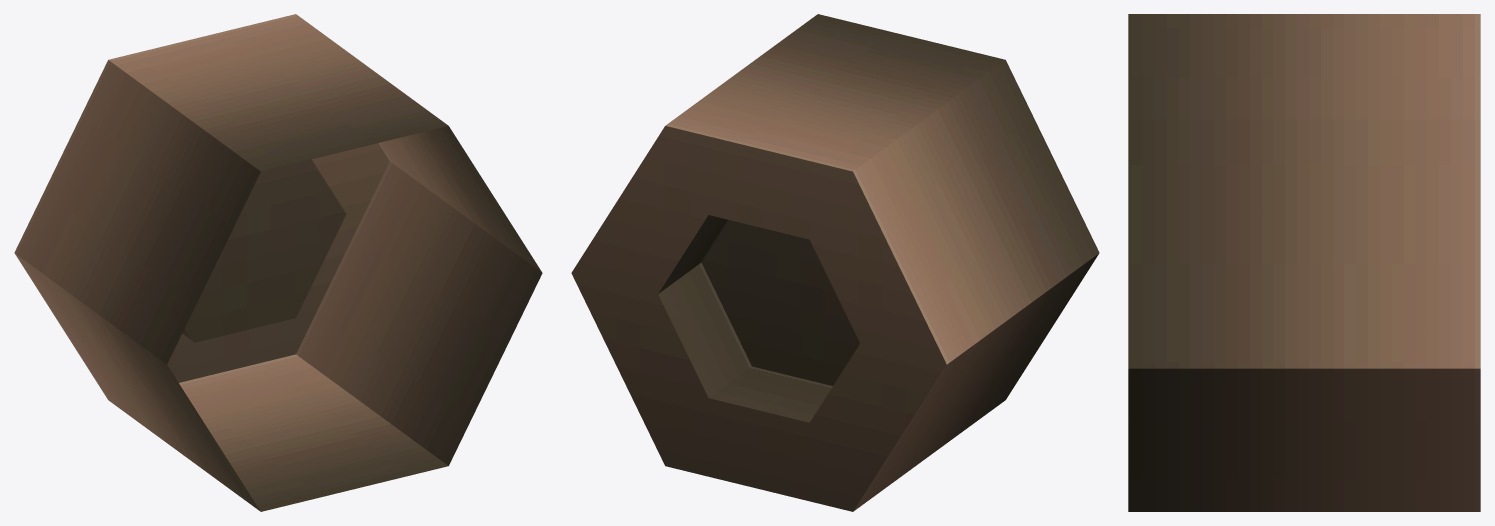
File: Cannon.FBX
3 views of the same model, side by side, from view 1: azimuth 30°, elevation 25°; view 2: azimuth 150°, elevation 25°; view 3: azimuth 270°, elevation 25° (orthographic). The views are drawn at different scales.
Visible parts, largest first — view 1: Cannon; view 2: Cannon; view 3: Cannon.
Part boxes in pixels (x1,y1,x2,y2): Cannon: [14, 14, 542, 511]; Cannon: [571, 14, 1099, 511]; Cannon: [1128, 14, 1480, 511].
Size of the model in its own units: 0.25 by 0.1761 by 0.2165.
